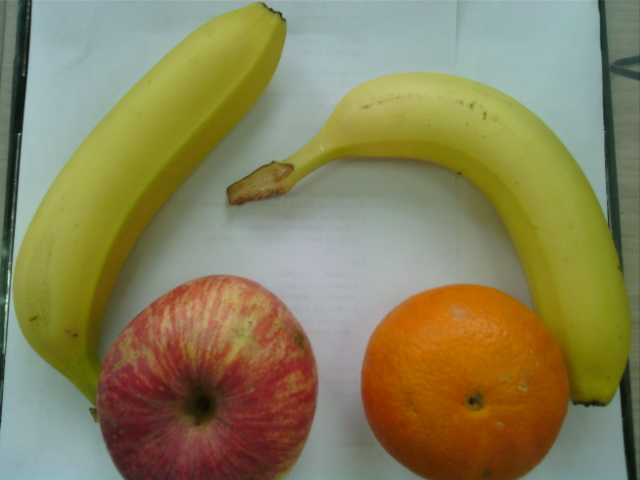normal_apple: (94, 276, 318, 480)
normal_banana: (276, 71, 631, 405), (16, 4, 289, 380)
normal_orange: (364, 281, 571, 480)
